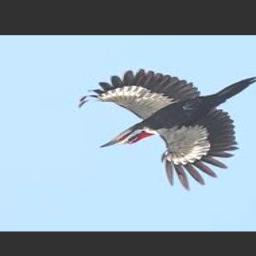Woodpecker: (78, 70, 256, 192)
